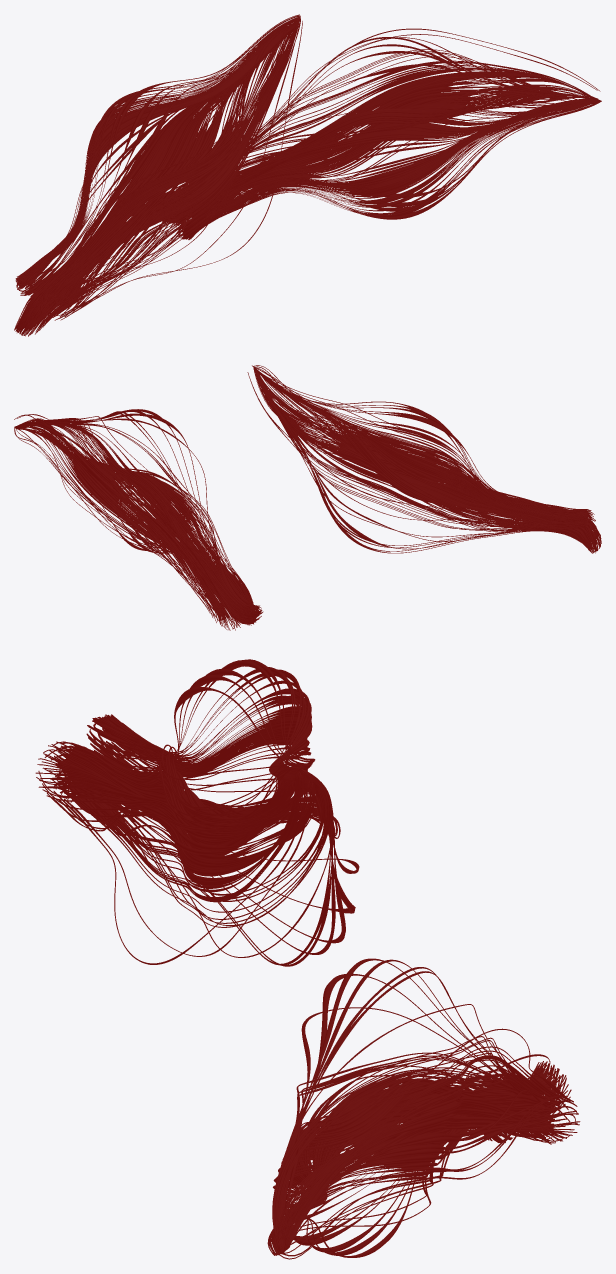
The model's file is muscles.glb.
The picture shows the model from 3 angles, top to bottom: view 1: azimuth 30°, elevation 25°; view 2: azimuth 150°, elevation 25°; view 3: azimuth 270°, elevation 25°; orthographic projection. The views are drawn at different scales.
Visible parts, largest first — view 1: muscle, muscle.001; view 2: muscle.001, muscle; view 3: muscle.001, muscle.
Boxes of the visible parts, <box> form: muscle: <box>146,28,601,239</box>; muscle.001: <box>14,14,302,336</box>; muscle.001: <box>247,365,601,553</box>; muscle: <box>14,409,263,630</box>; muscle.001: <box>35,659,359,966</box>; muscle: <box>267,958,580,1259</box>.
Bounding box in the file's own units: 193 × 72.7 × 84.48.
